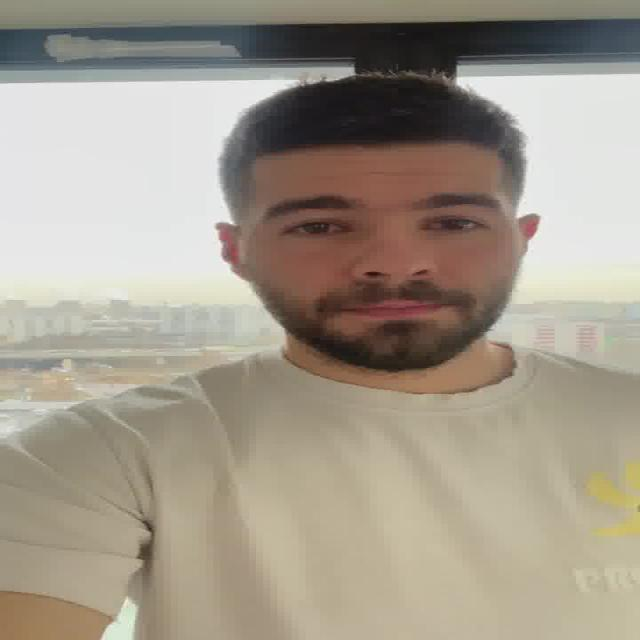earlobe: (225, 262, 247, 282)
eye: (423, 216, 485, 232), (283, 221, 350, 235)
nose: (356, 274, 437, 300)
wholeear: (212, 222, 248, 284), (517, 212, 540, 257)
